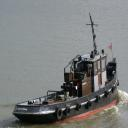tugboat: (13, 13, 122, 127)
